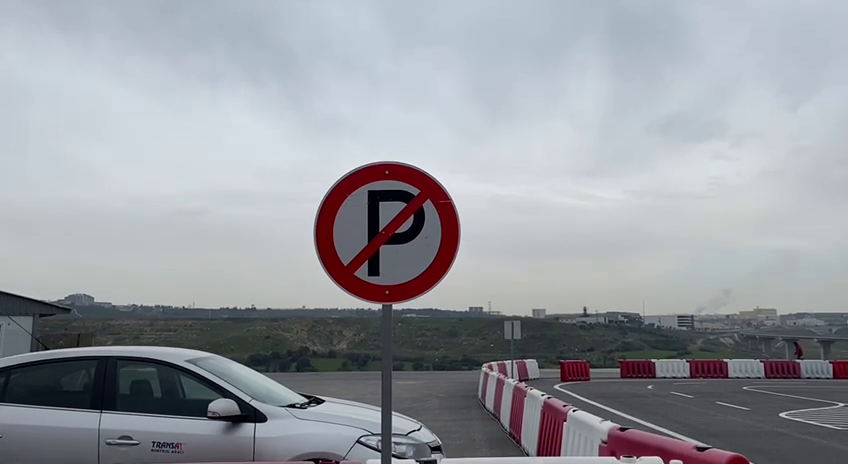noparking: (305, 153, 465, 316)
